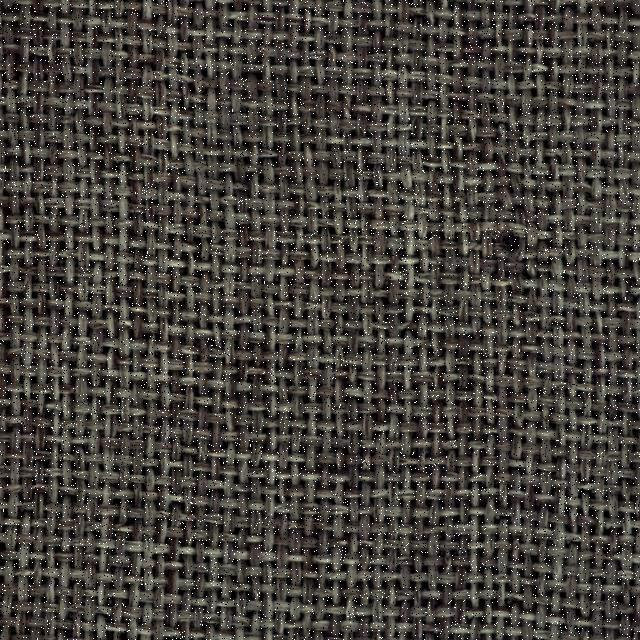hole: (484, 223, 534, 267)
